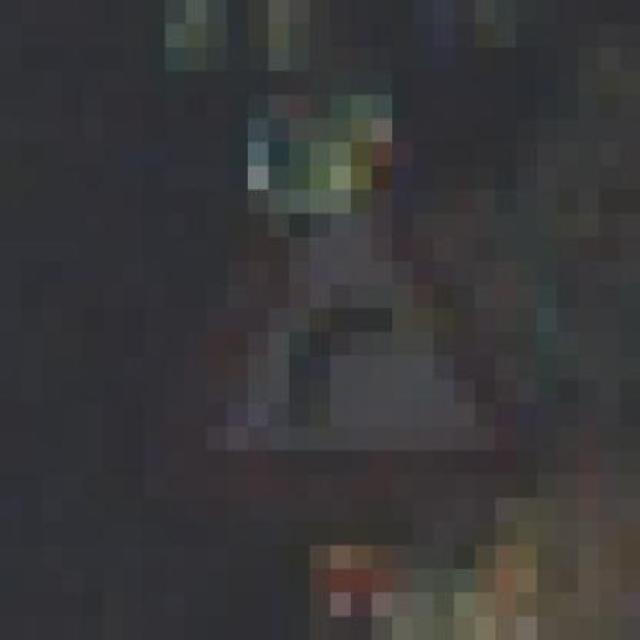Dangerous Rright Curve Ahead: (118, 84, 552, 558)
